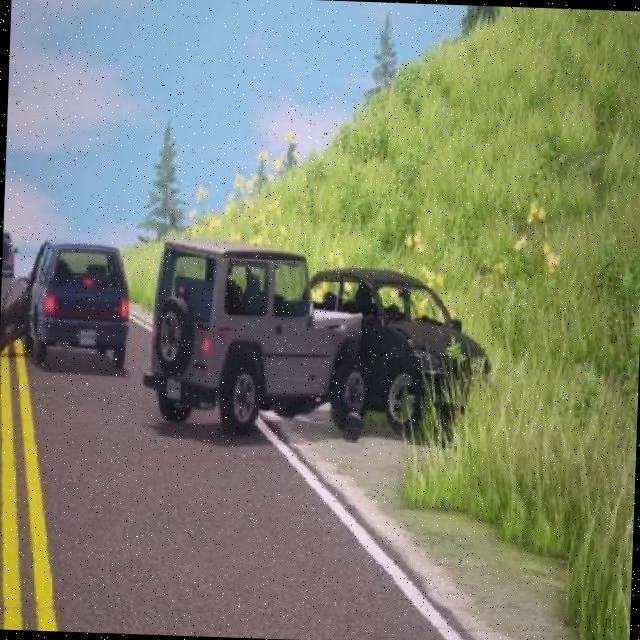accident: (147, 229, 498, 455)
